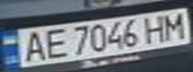0: (87, 21, 109, 53)
4: (106, 19, 127, 51)
6: (121, 16, 145, 47)
7: (66, 24, 90, 56)
A: (18, 29, 51, 63)
E: (39, 26, 69, 60)
H: (139, 12, 172, 43)
M: (160, 9, 190, 40)
